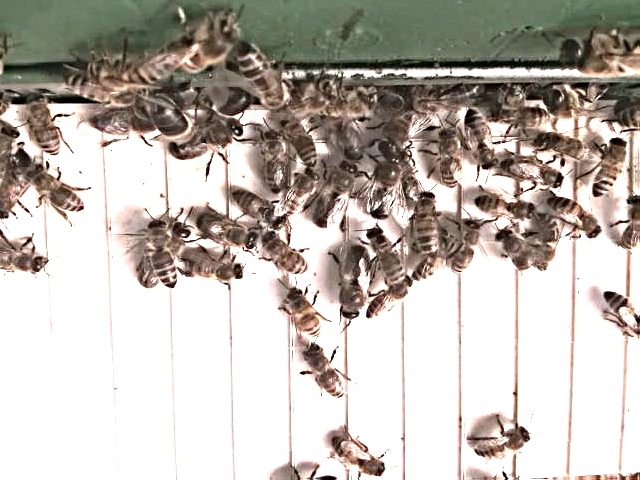Drone: (166, 115, 249, 167), (314, 158, 362, 232), (366, 145, 407, 225), (335, 243, 374, 324)
Worker: (192, 206, 260, 256), (31, 171, 92, 220), (328, 433, 390, 479), (303, 342, 348, 404), (230, 185, 289, 231), (547, 196, 603, 244), (146, 216, 181, 291), (462, 109, 502, 174), (472, 423, 536, 463), (178, 251, 247, 288), (591, 136, 630, 199), (282, 285, 325, 341), (503, 156, 568, 192), (30, 97, 66, 161), (474, 192, 541, 224), (262, 236, 311, 279), (412, 190, 442, 260), (434, 128, 466, 192), (450, 218, 482, 278)
